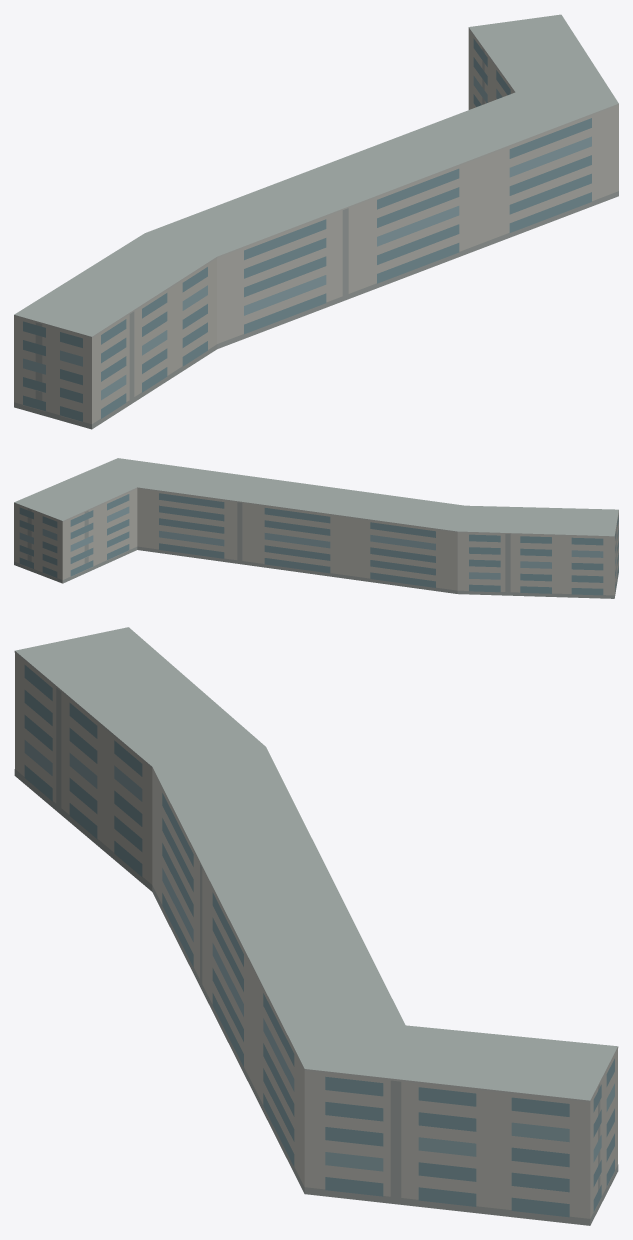
File: residential-6c9783ea-725e-44c3-9851-ef38afb9edb7.glb
3 views of the same model, one above another, from view 1: azimuth 30°, elevation 25°; view 2: azimuth 150°, elevation 25°; view 3: azimuth 270°, elevation 25° (orthographic). The views are drawn at different scales.
Parts seen in each view (by area): view 1: residential-6c9783ea-725e-44c3-9851-ef38afb9edb7.tmp; view 2: residential-6c9783ea-725e-44c3-9851-ef38afb9edb7.tmp; view 3: residential-6c9783ea-725e-44c3-9851-ef38afb9edb7.tmp.
Boxes of the visible parts, x1,y1,x2,y2 form: residential-6c9783ea-725e-44c3-9851-ef38afb9edb7.tmp: [14, 14, 618, 429]; residential-6c9783ea-725e-44c3-9851-ef38afb9edb7.tmp: [14, 458, 618, 598]; residential-6c9783ea-725e-44c3-9851-ef38afb9edb7.tmp: [14, 627, 618, 1225].
Bounding box in the file's own units: 124 × 15.25 × 66.6.
